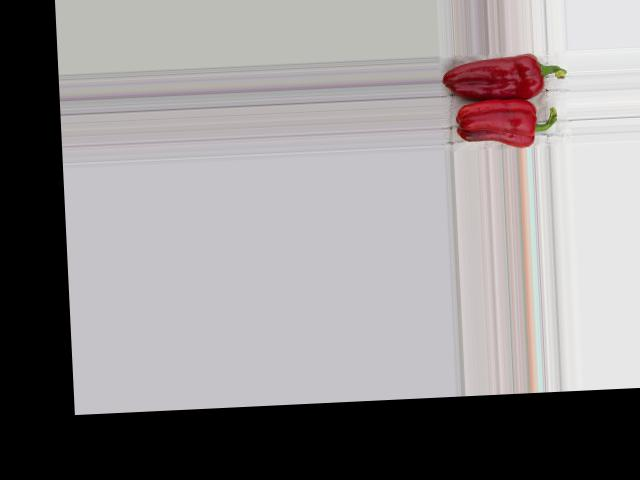bell_pepper: (441, 52, 571, 104)
